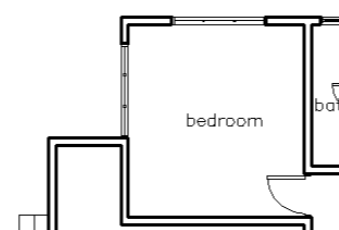door: (262, 173, 310, 216)
window: (170, 7, 275, 35), (111, 38, 137, 138)
